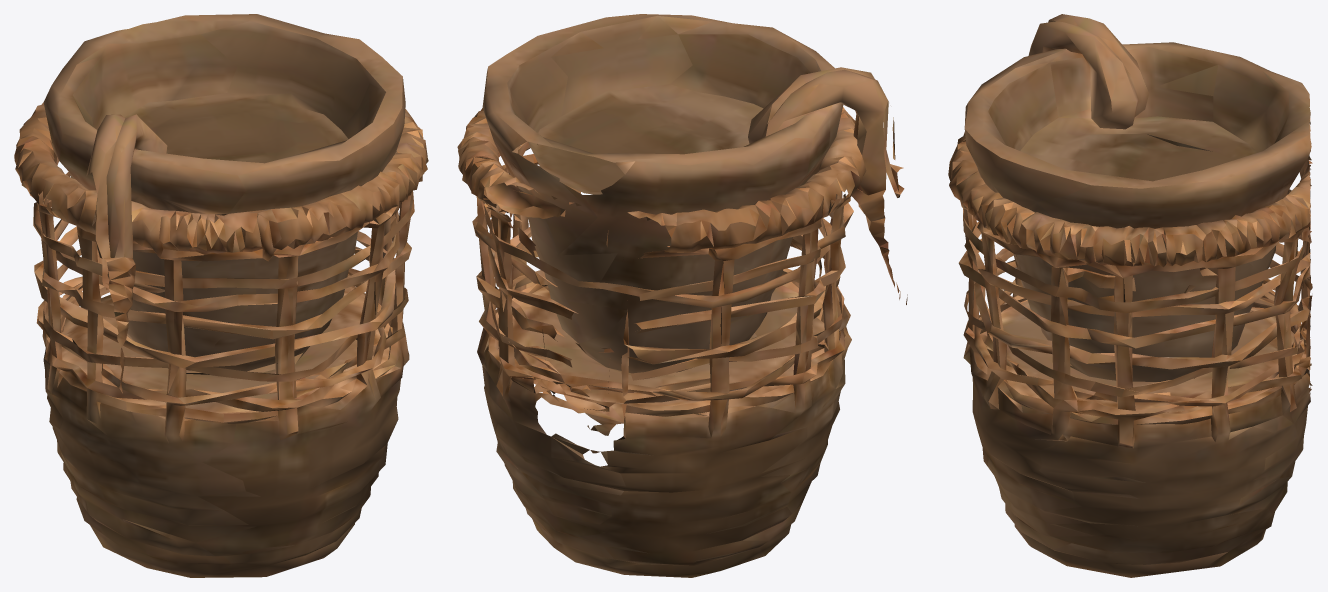
Rendered from Basket.glb.
3 views of the same model, side by side, from view 1: azimuth 30°, elevation 25°; view 2: azimuth 150°, elevation 25°; view 3: azimuth 270°, elevation 25° (orthographic). The views are drawn at different scales.
Parts seen in each view (by area): view 1: Basket; view 2: Basket; view 3: Basket.
Boxes of the visible parts, x1,y1,x2,y2 form: Basket: (14, 14, 428, 577); Basket: (457, 14, 907, 577); Basket: (948, 14, 1312, 577).
Bounding box in the file's own units: 0.4852 × 0.6014 × 0.4462.
Materials: 1 (1 with a texture image).
